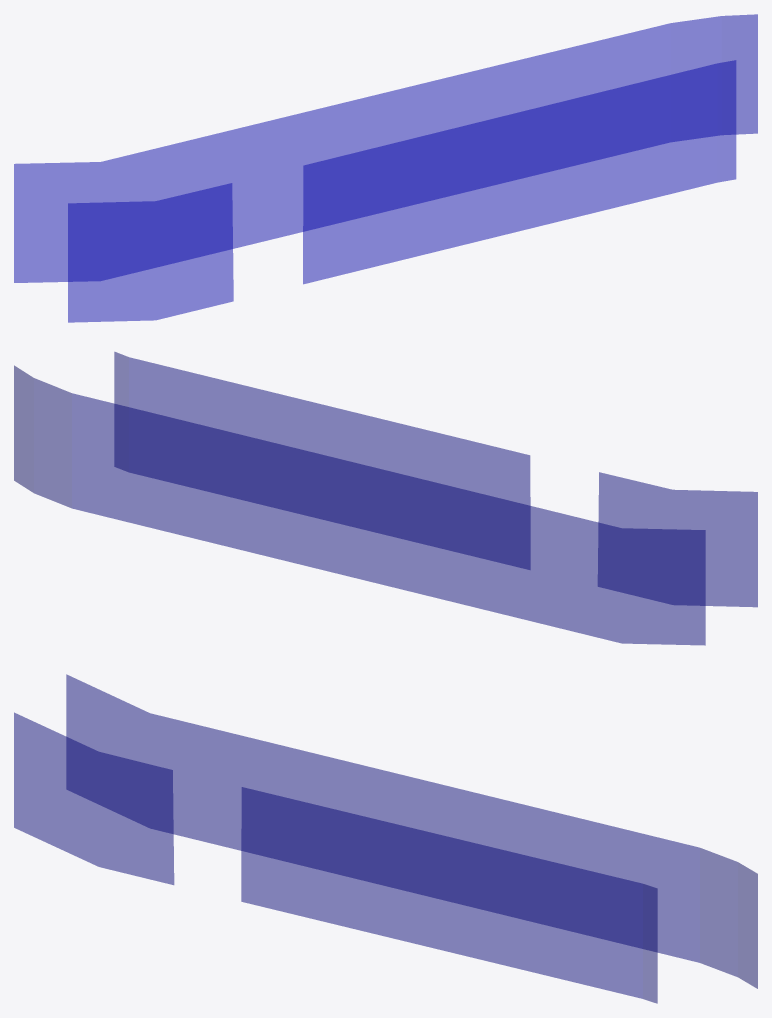
File: track_military_coll_wall_13.fbx
3 renders of one model, top to bottom at view 1: azimuth 30°, elevation 25°; view 2: azimuth 150°, elevation 25°; view 3: azimuth 330°, elevation 25°, orthographic. The views are drawn at different scales.
Visible parts, largest first — view 1: track_military_coll_wall_13; view 2: track_military_coll_wall_13; view 3: track_military_coll_wall_13.
Part boxes in pixels (bbox=[...]): track_military_coll_wall_13: bbox=[14, 14, 757, 322]; track_military_coll_wall_13: bbox=[14, 352, 757, 645]; track_military_coll_wall_13: bbox=[14, 674, 757, 1003].
Size of the model in its own units: 204 by 36.91 by 26.73.
